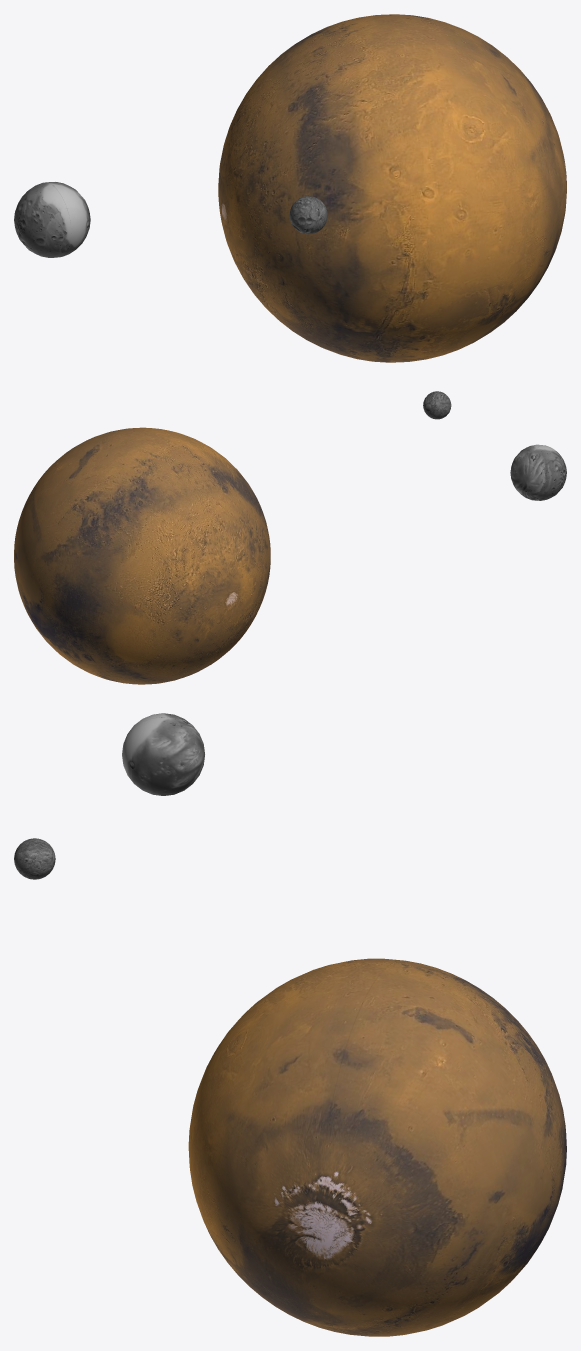
File: mars.obj
3 views of the same model, one above another, from view 1: azimuth 30°, elevation 25°; view 2: azimuth 150°, elevation 25°; view 3: azimuth 270°, elevation 25° (orthographic). The views are drawn at different scales.
Parts seen in each view (by area): view 1: Mars, Deimos, Phobos; view 2: Mars, Deimos, Phobos; view 3: Mars, Deimos, Phobos.
Part boxes in pixels (left/top/right/bottom): Mars: left=218, top=14, right=566, bottom=362; Deimos: left=14, top=182, right=90, bottom=257; Phobos: left=289, top=196, right=327, bottom=234; Mars: left=14, top=427, right=270, bottom=684; Deimos: left=510, top=444, right=566, bottom=500; Phobos: left=423, top=391, right=451, bottom=419; Mars: left=188, top=958, right=566, bottom=1336; Deimos: left=122, top=713, right=204, bottom=795; Phobos: left=14, top=838, right=55, bottom=879.
Size of the model in its own units: 413 by 216 by 292.
3 materials, 3 textured.
